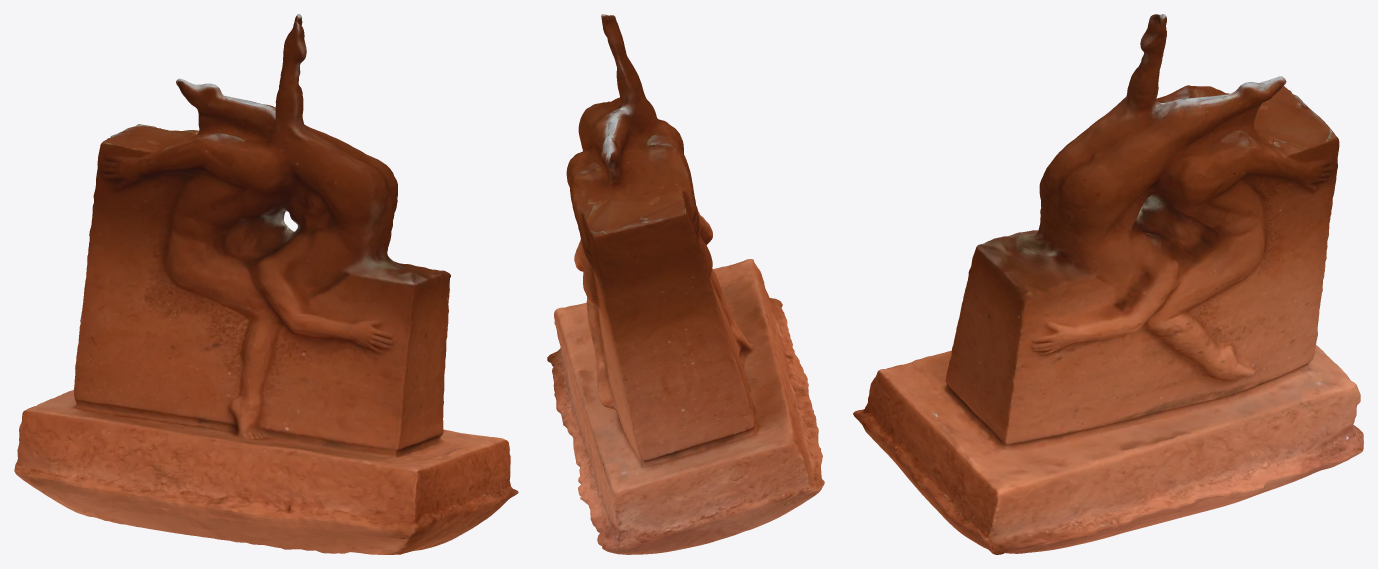
The model's file is preview.glb.
3 renders of one model, left to right at view 1: azimuth 30°, elevation 25°; view 2: azimuth 150°, elevation 25°; view 3: azimuth 270°, elevation 25°, orthographic. The views are drawn at different scales.
Parts seen in each view (by area): view 1: Object_2; view 2: Object_2; view 3: Object_2.
Boxes of the visible parts, x1,y1,x2,y2 form: Object_2: (14,14,518,554); Object_2: (547,14,824,554); Object_2: (853,14,1363,554).
Bounding box in the file's own units: 15.4 × 18.61 × 16.67.
Materials: 1 (1 with a texture image).
